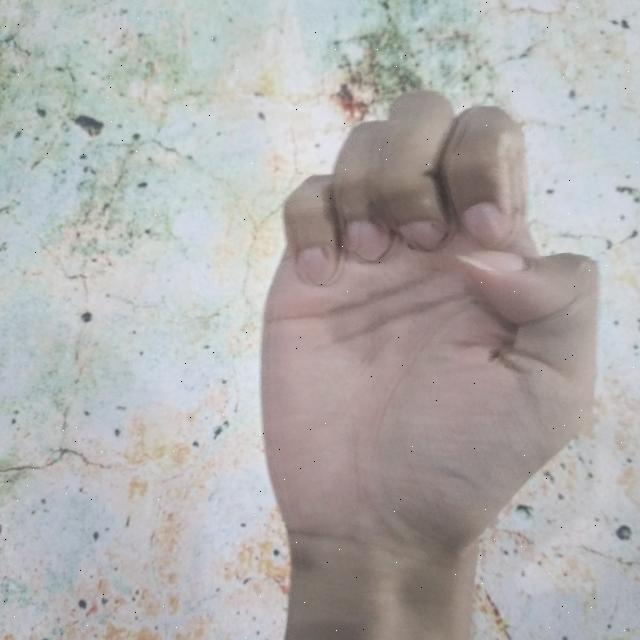E: (260, 85, 602, 640)
